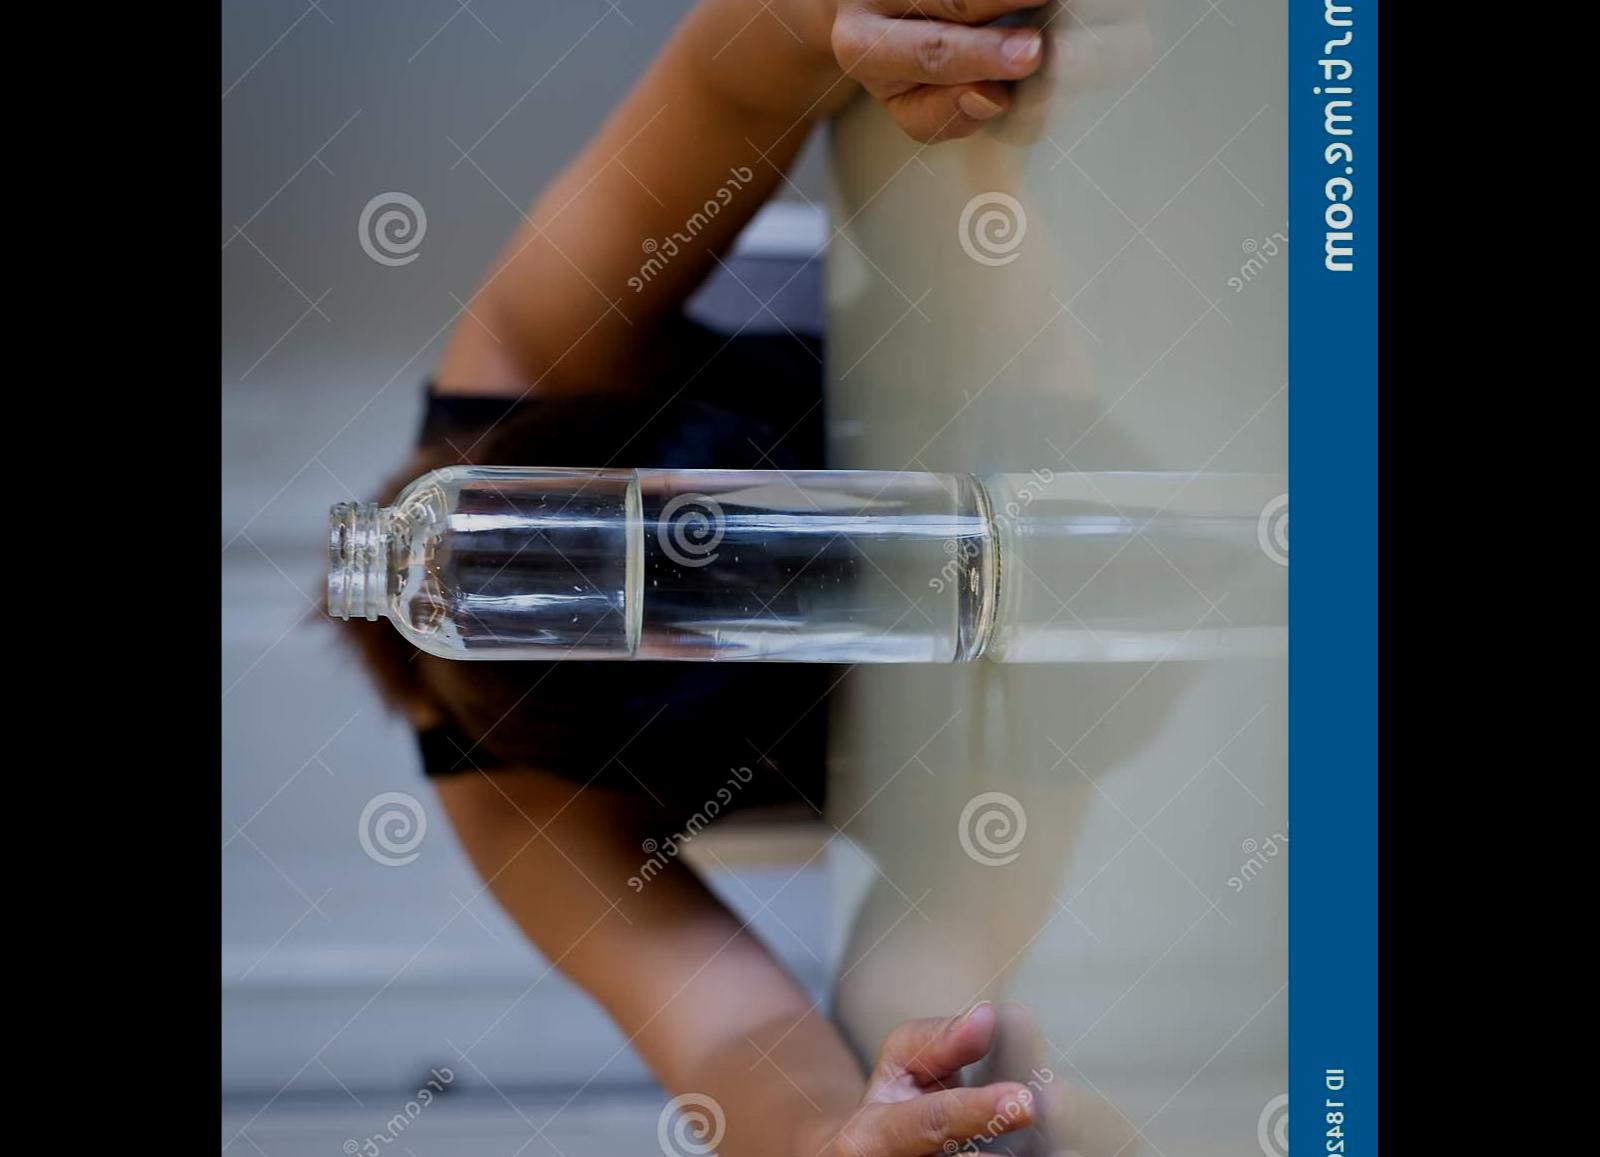bottle: (309, 444, 1014, 680)
